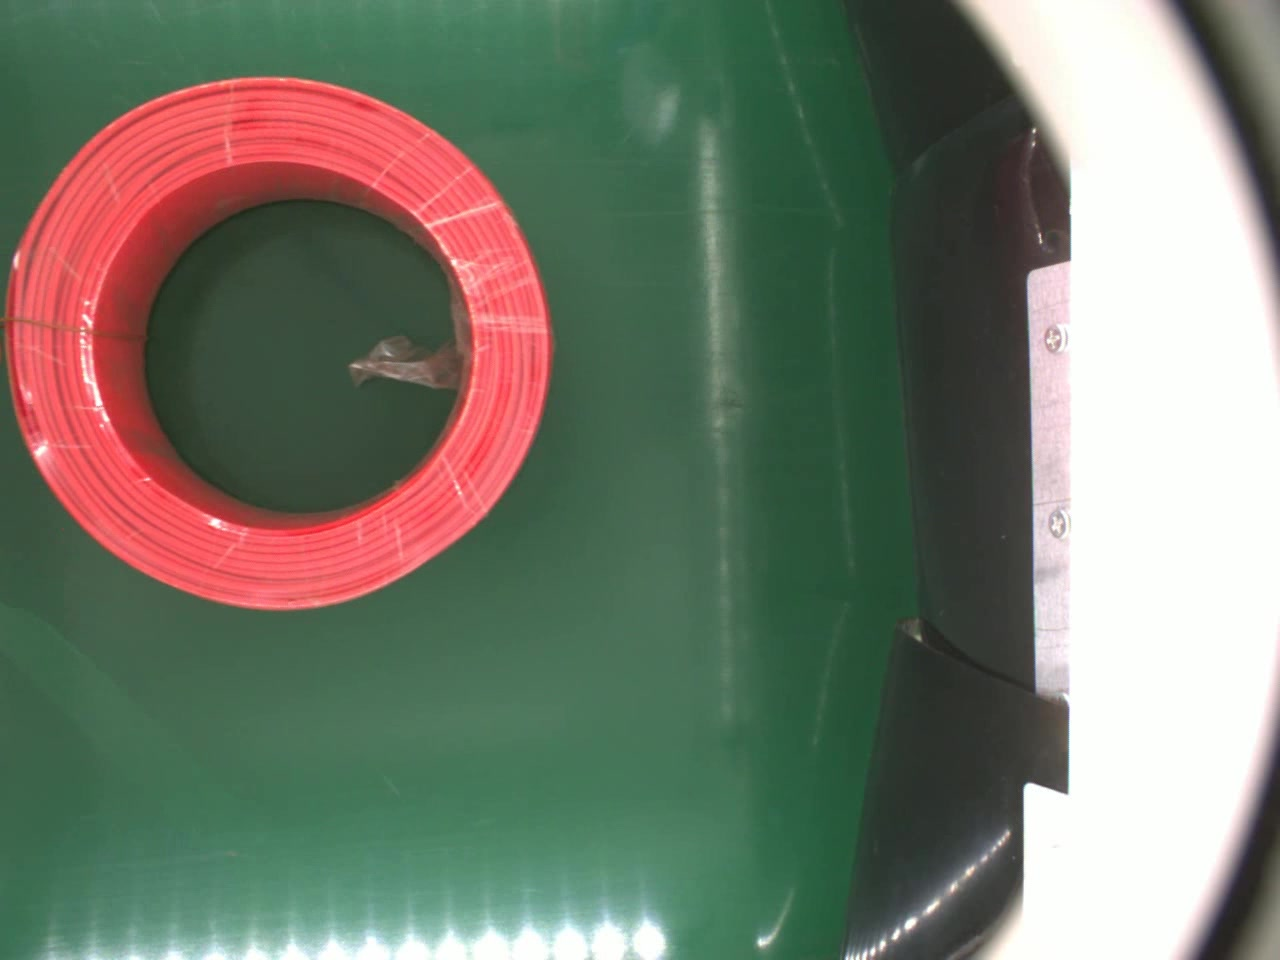red: (2, 68, 549, 617)
